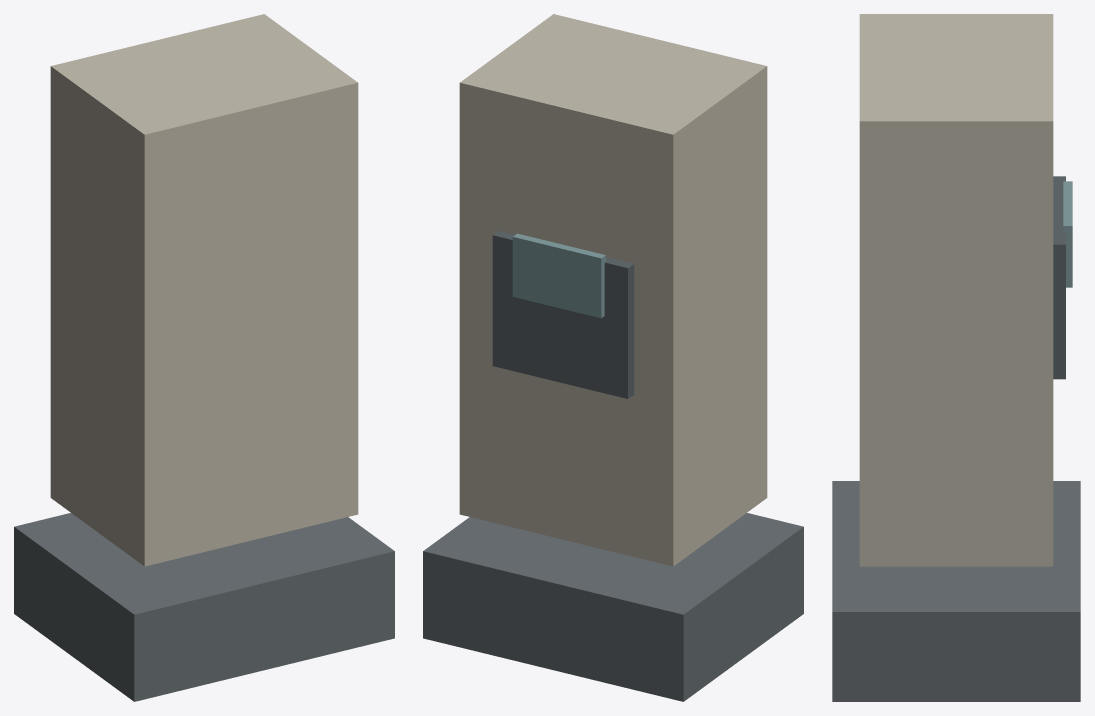
Rendered from iz3_build_defense_spotlight_01.glb.
3 views of the same model, side by side, from view 1: azimuth 30°, elevation 25°; view 2: azimuth 150°, elevation 25°; view 3: azimuth 270°, elevation 25° (orthographic). The views are drawn at different scales.
Parts seen in each view (by area): view 1: cabinet, base; view 2: cabinet, base, panel, display; view 3: cabinet, base, panel, display.
Part boxes in pixels (x1=…): cabinet: x1=50, y1=14, x2=358, y2=566; base: x1=14, y1=513, x2=394, y2=701; cabinet: x1=459, y1=14, x2=767, y2=566; base: x1=423, y1=513, x2=803, y2=701; panel: x1=492, y1=231, x2=634, y2=398; display: x1=512, y1=233, x2=605, y2=318; cabinet: x1=859, y1=14, x2=1053, y2=566; base: x1=832, y1=481, x2=1080, y2=701; panel: x1=1053, y1=176, x2=1065, y2=379; display: x1=1063, y1=181, x2=1072, y2=287.
Size of the model in its own units: 1 by 2.02 by 0.8.
